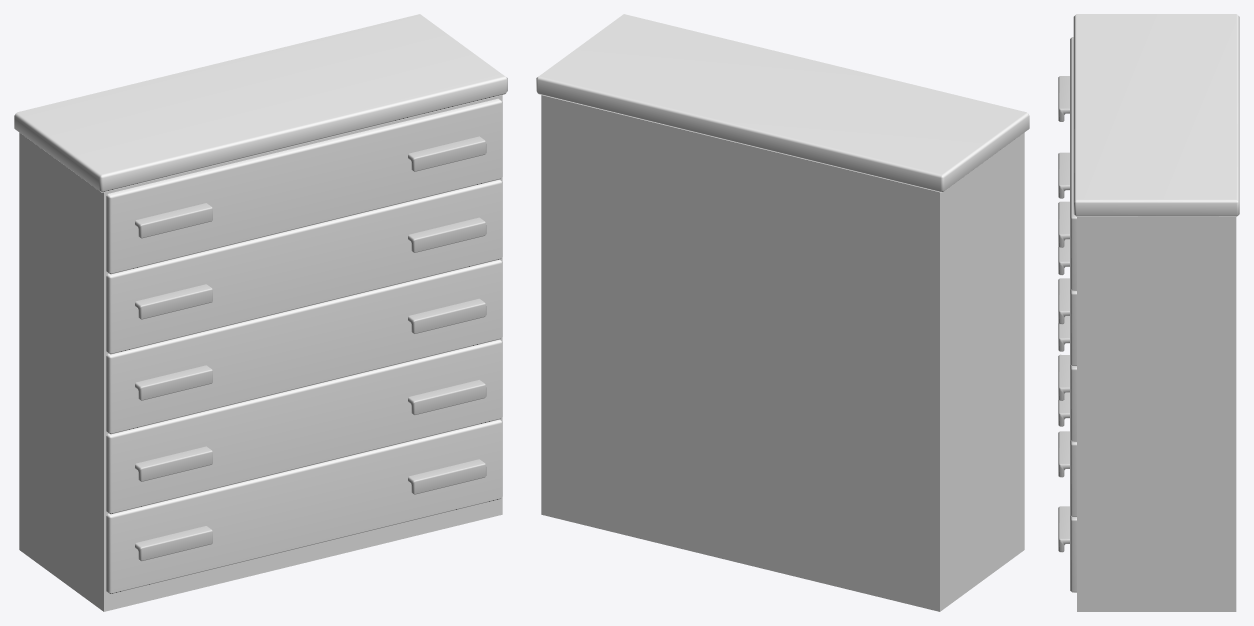
File: dresser_031.fbx
3 renders of one model, left to right at view 1: azimuth 30°, elevation 25°; view 2: azimuth 150°, elevation 25°; view 3: azimuth 270°, elevation 25°, orthographic. The views are drawn at different scales.
Parts seen in each view (by area): view 1: dresser_031; view 2: dresser_031; view 3: dresser_031.
Boxes of the visible parts, <box> form: dresser_031: <box>14,14,507,611</box>; dresser_031: <box>536,14,1029,611</box>; dresser_031: <box>1058,14,1239,611</box>.
Bounding box in the file's own units: 123 × 49.98 × 126.
